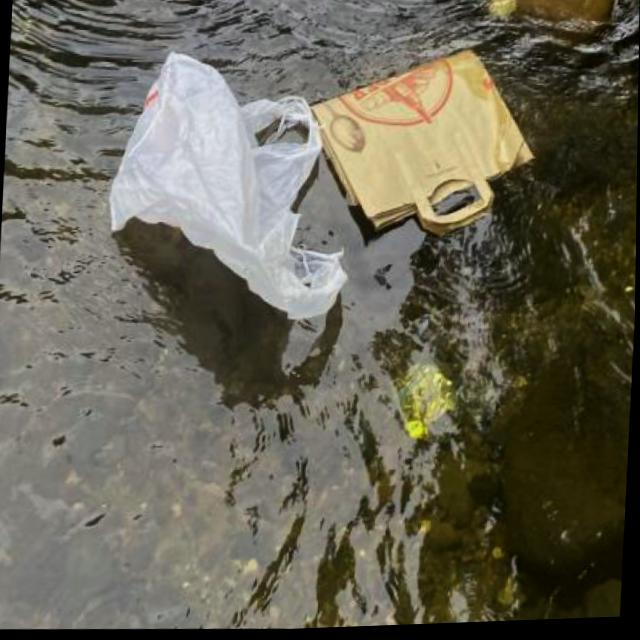Paper: (297, 31, 544, 246)
Plastic: (90, 37, 361, 340)
